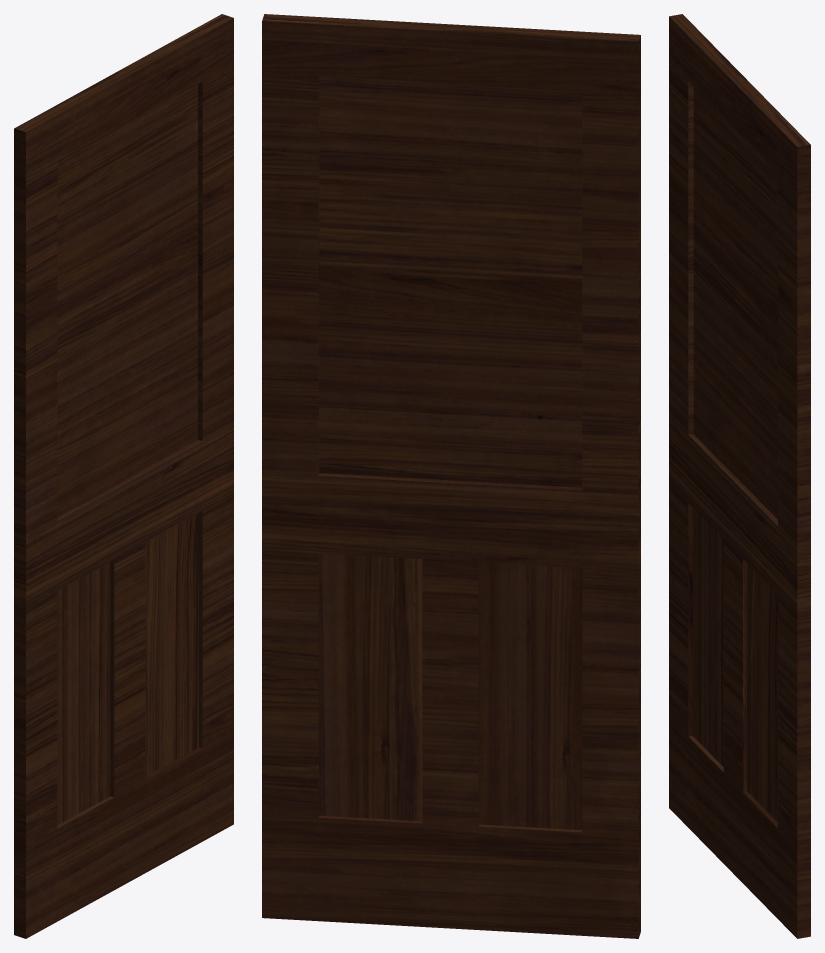
The model's file is RearDoor_Final_04.fbx.
The picture shows the model from 3 angles, left to right: view 1: azimuth 30°, elevation 25°; view 2: azimuth 150°, elevation 25°; view 3: azimuth 270°, elevation 25°; orthographic projection. The views are drawn at different scales.
Parts seen in each view (by area): view 1: DoorMesh_01; view 2: DoorMesh_01; view 3: DoorMesh_01.
Part boxes in pixels (x1=…): DoorMesh_01: x1=14, y1=14, x2=233, y2=938; DoorMesh_01: x1=262, y1=14, x2=640, y2=938; DoorMesh_01: x1=669, y1=14, x2=810, y2=938.
Size of the model in its own units: 29.62 by 13.33 by 82.09.
1 material, 1 textured.
